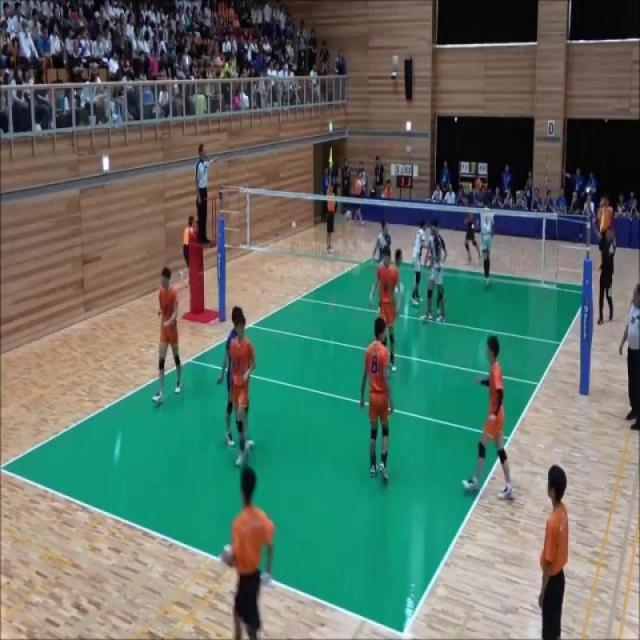volleyball: (291, 220, 297, 230), (358, 179, 360, 186)
